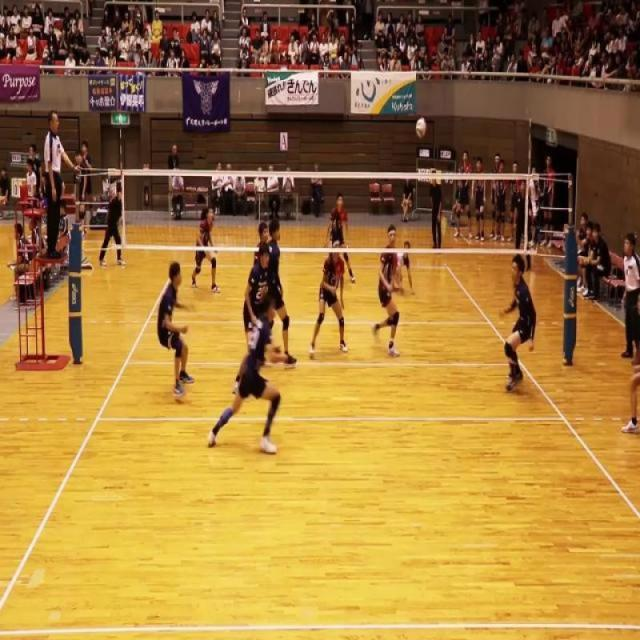volleyball: (415, 116, 427, 140)
